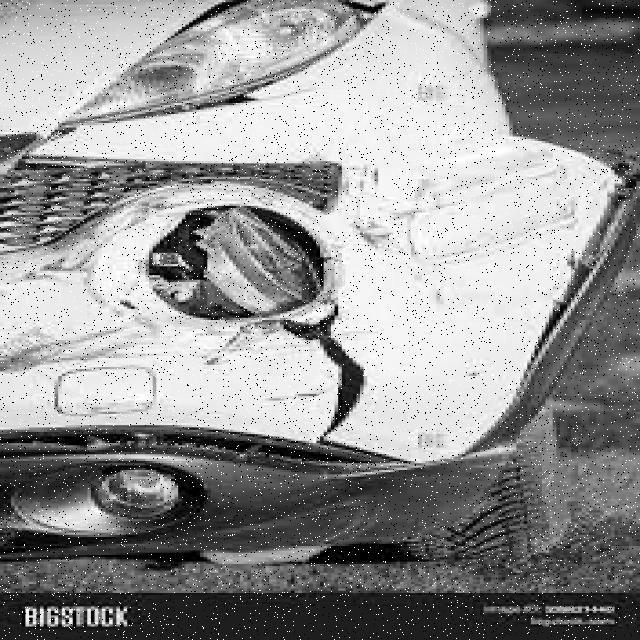front-bumper-dent: (1, 129, 612, 480)
